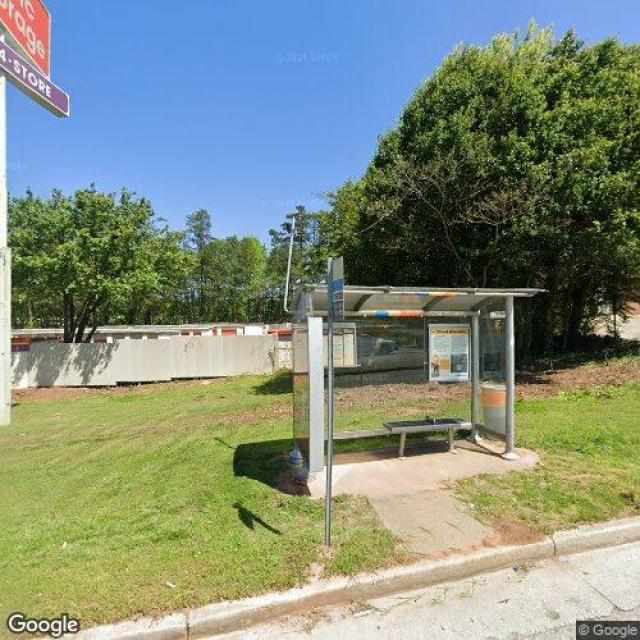seating: (382, 416, 469, 462)
shelter: (286, 284, 549, 478)
trash_can: (480, 385, 508, 435)
